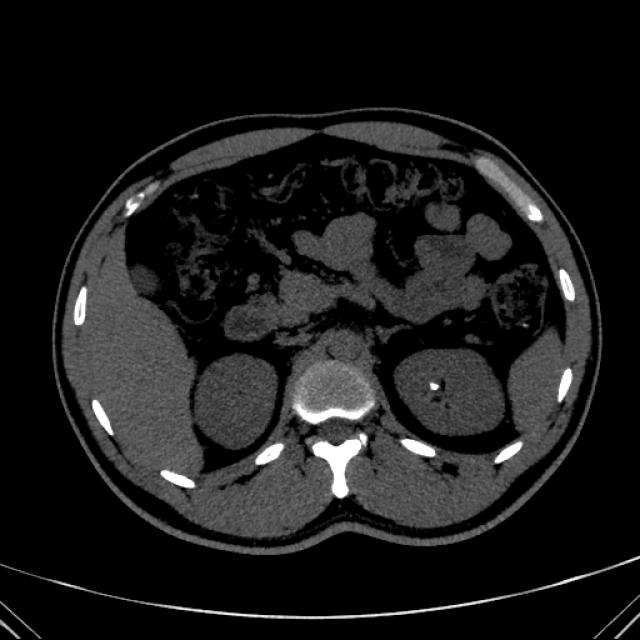kidneystone: (429, 379, 445, 392)
